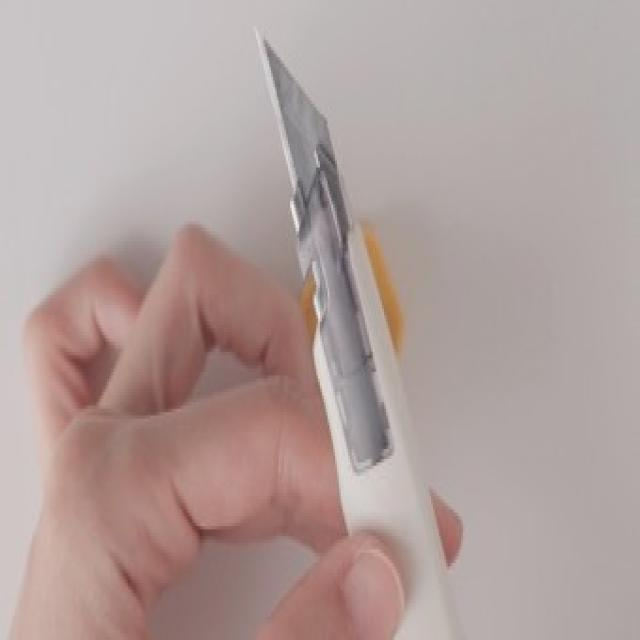cutter: (241, 11, 511, 640)
